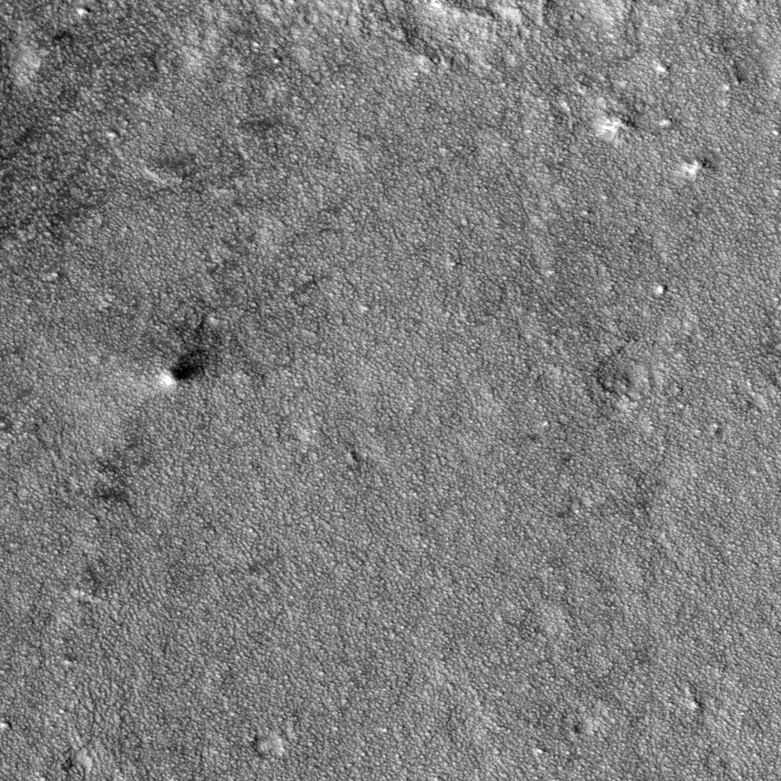dust_devil: (157, 347, 210, 392)
